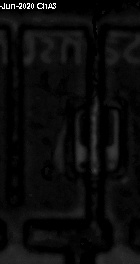led: (66, 105, 125, 179)
